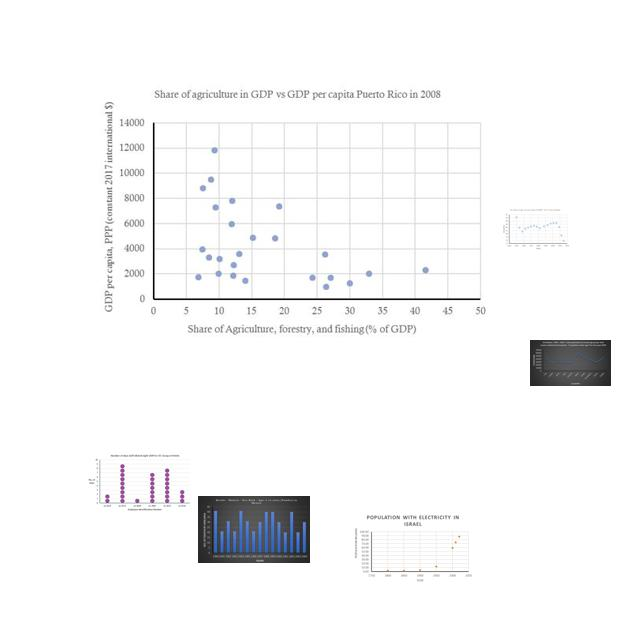Graph: (100, 78, 489, 342), (351, 512, 475, 586), (198, 496, 310, 563), (85, 453, 192, 513), (530, 340, 611, 386), (501, 208, 570, 250)
